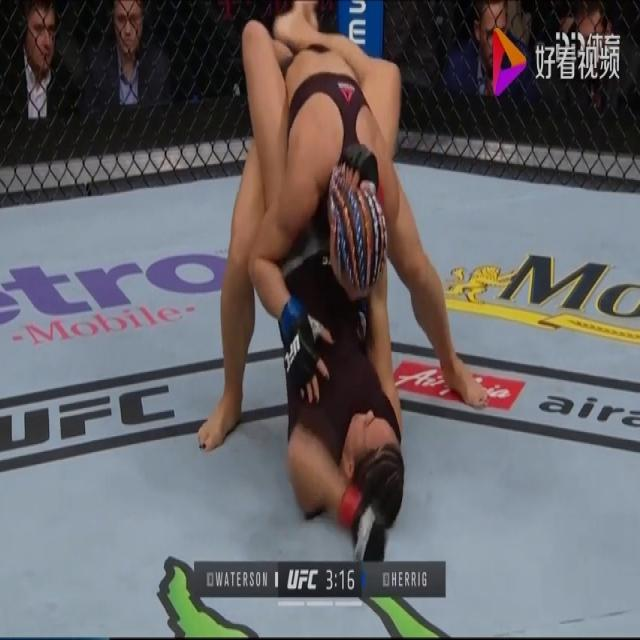fight: (189, 0, 478, 568)
